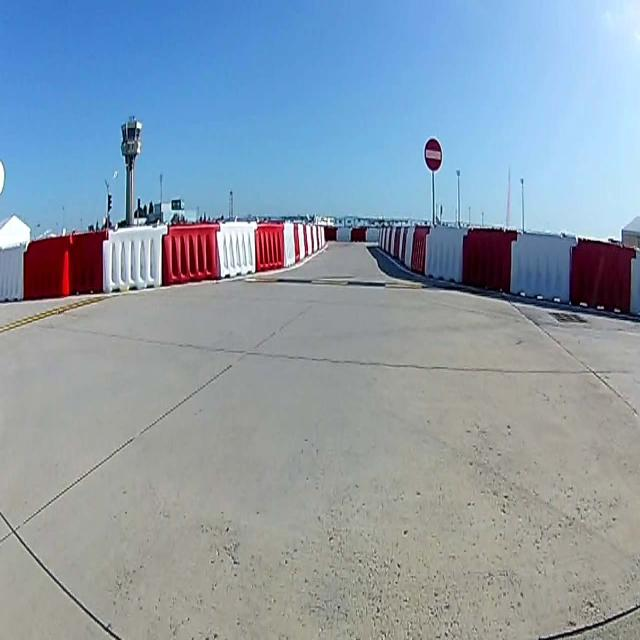girisyok: (423, 135, 443, 173)
